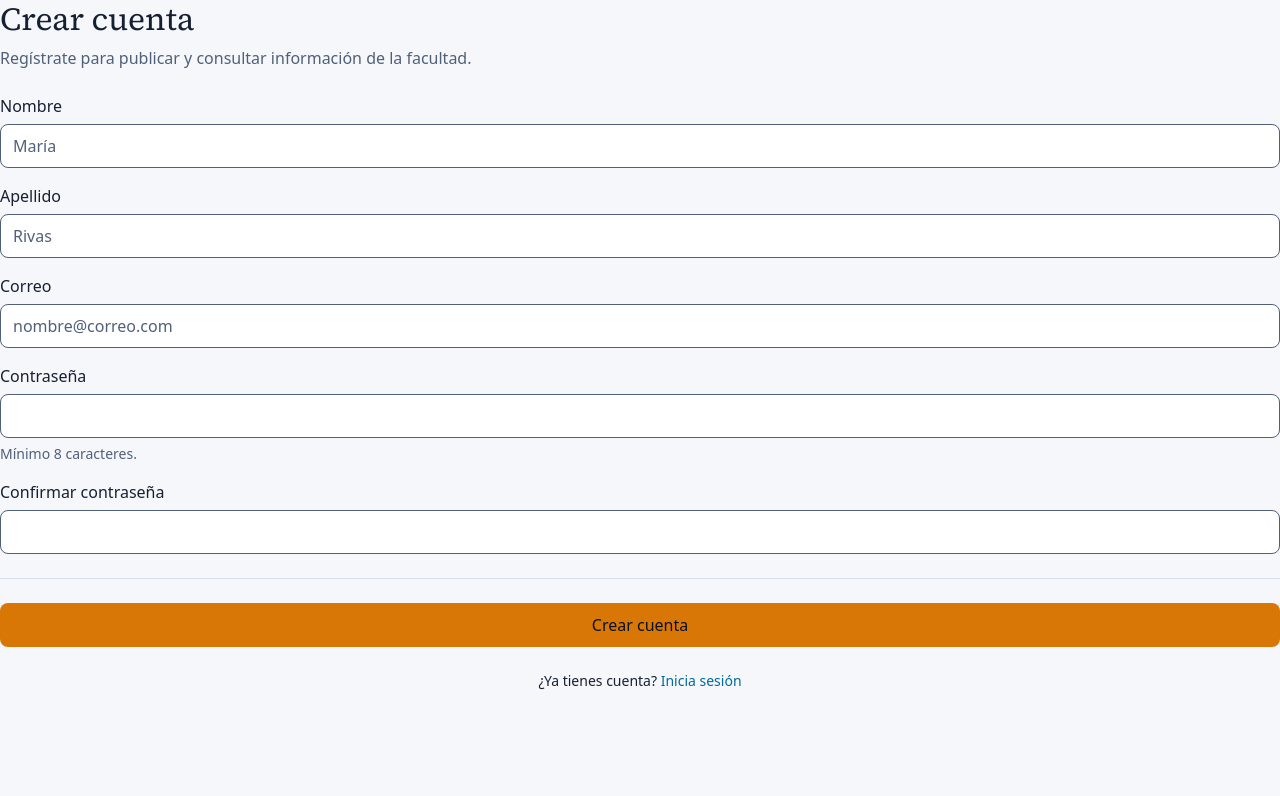
Test: RegisterForm › validates fields on submit and shows summary
The image size is (1280, 796).
Click the button "Crear cuenta" at (640, 625), box [0,603,1279,647]
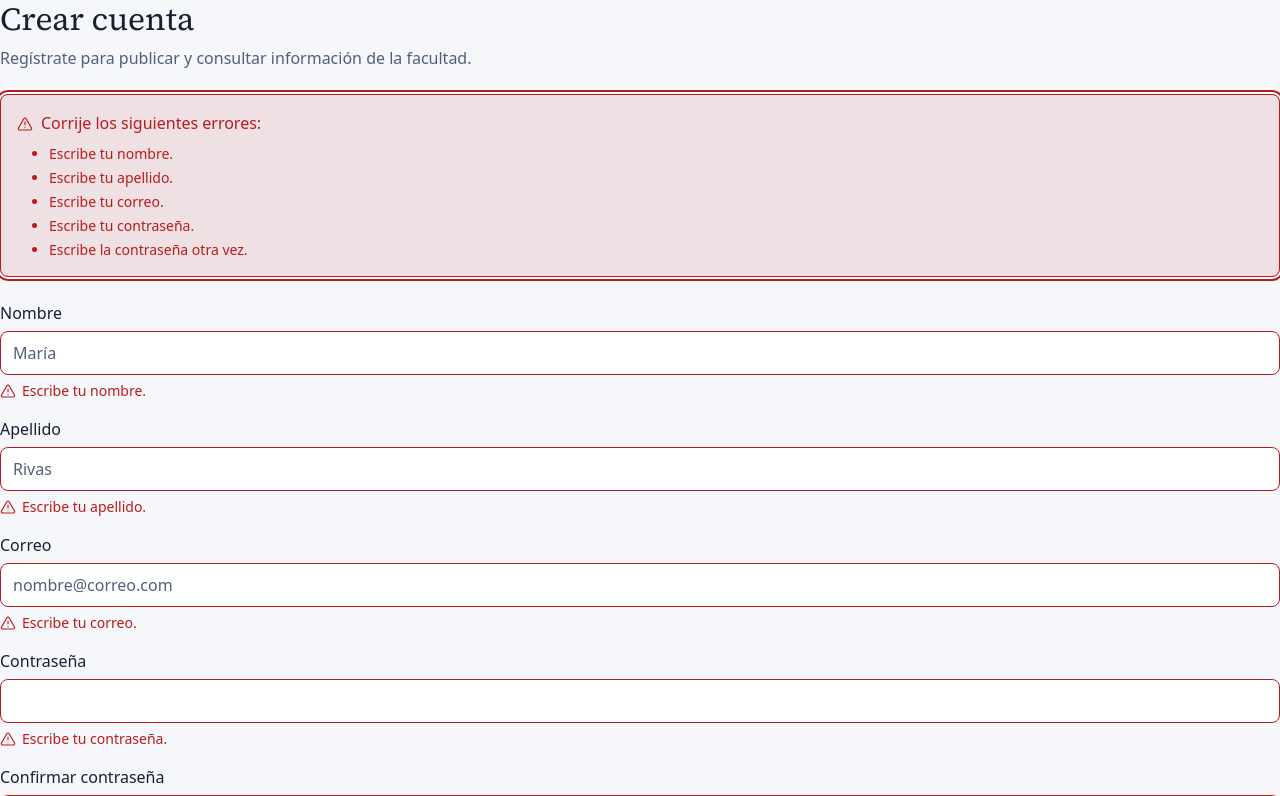
Now the message is shown, box [0,94,1279,277]
Now the button "Escribe tu nombre." is shown, box [49,144,173,164]
Now the button "Escribe tu correo." is shown, box [49,192,164,212]
